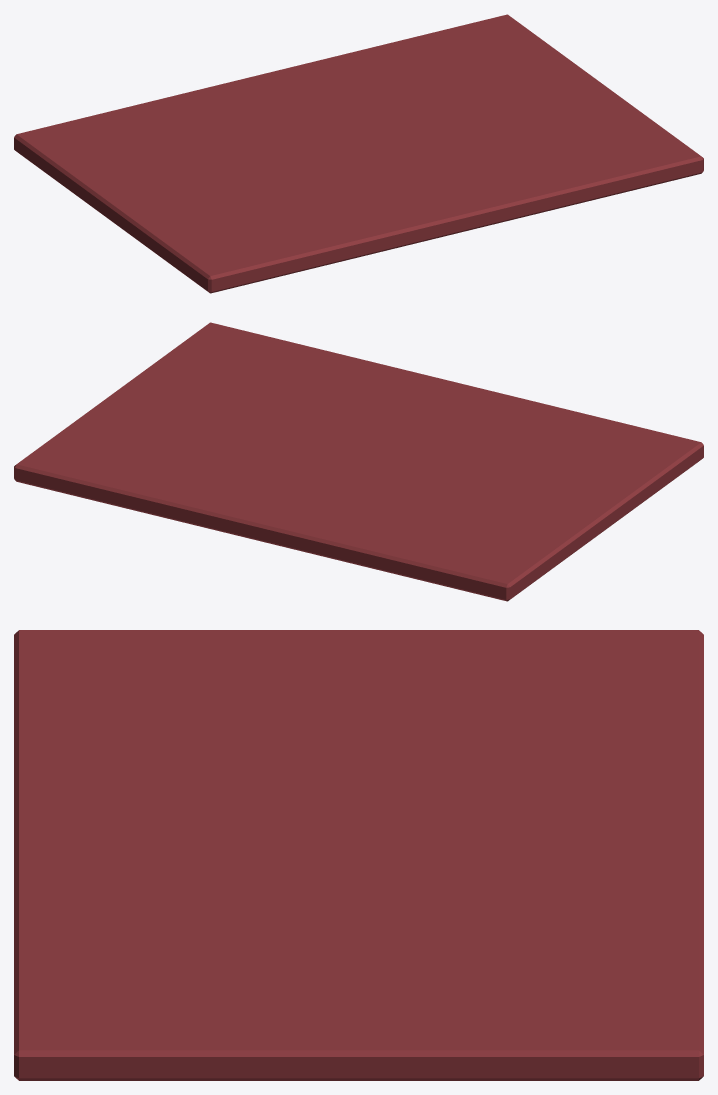
Rendered from fbx_oldbuilding_boundary_r2.fbx.
3 views of the same model, one above another, from view 1: azimuth 30°, elevation 25°; view 2: azimuth 150°, elevation 25°; view 3: azimuth 270°, elevation 25° (orthographic). The views are drawn at different scales.
Parts seen in each view (by area): view 1: fbx_oldbuilding_boundary_r2; view 2: fbx_oldbuilding_boundary_r2; view 3: fbx_oldbuilding_boundary_r2.
Boxes of the visible parts, x1,y1,x2,y2 form: fbx_oldbuilding_boundary_r2: (14,14,703,293); fbx_oldbuilding_boundary_r2: (14,322,703,601); fbx_oldbuilding_boundary_r2: (14,630,703,1080).
Bounding box in the file's own units: 6 × 0.2013 × 4.12.
Materials: 1 (1 with a texture image).
